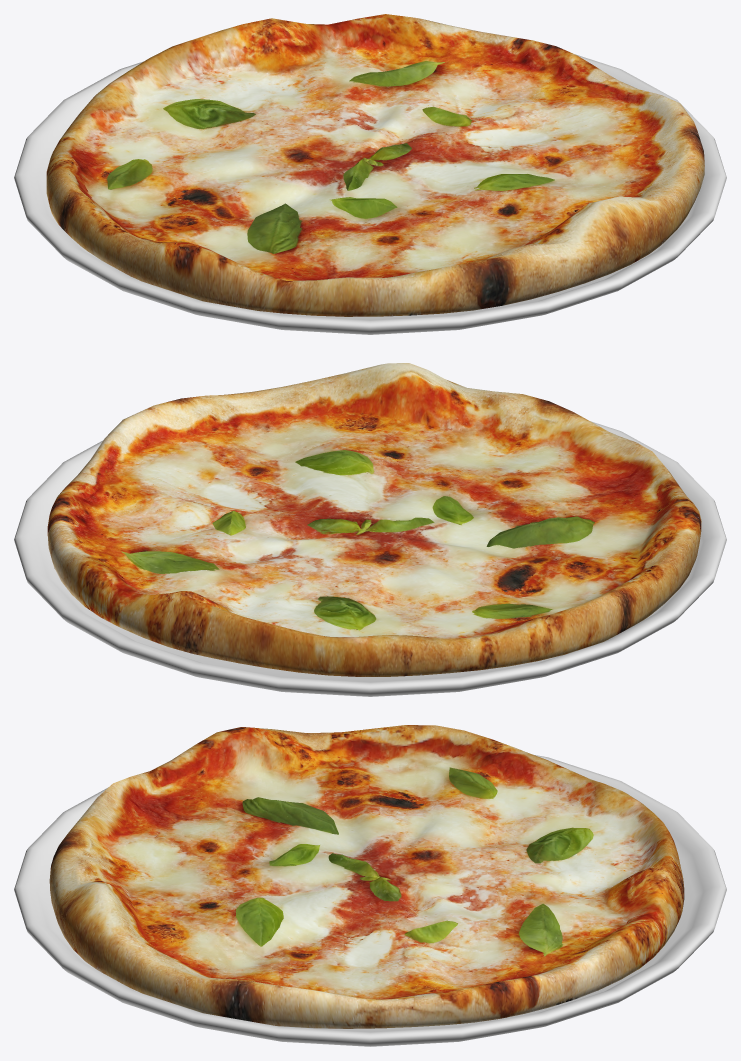
File: uploads_files_3029614_Pizza.glb
The picture shows the model from 3 angles, top to bottom: view 1: azimuth 30°, elevation 25°; view 2: azimuth 150°, elevation 25°; view 3: azimuth 270°, elevation 25°; orthographic projection.
Parts seen in each view (by area): view 1: Pizza; view 2: Pizza; view 3: Pizza.
Boxes of the visible parts, <box> form: Pizza: <box>14,14,726,334</box>; Pizza: <box>14,363,726,696</box>; Pizza: <box>14,725,726,1046</box>.
Size of what is drawn, in the model's own units: 2.29 by 0.2643 by 2.29.
4 materials, 2 textured.
